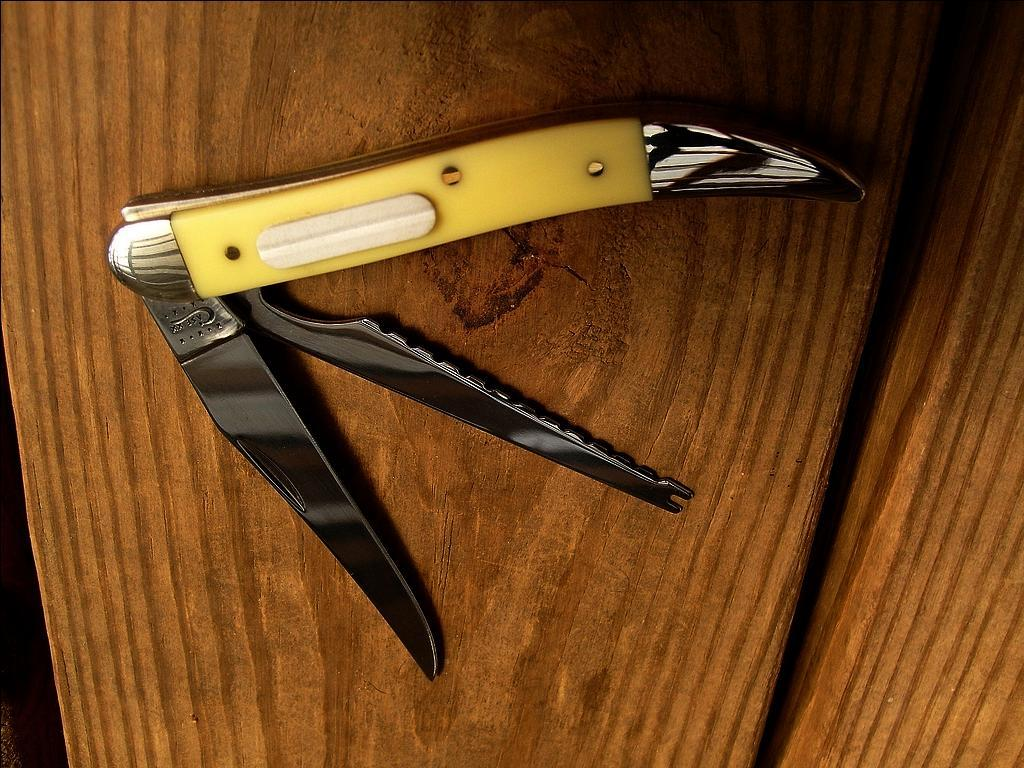melee: (104, 106, 874, 684)
